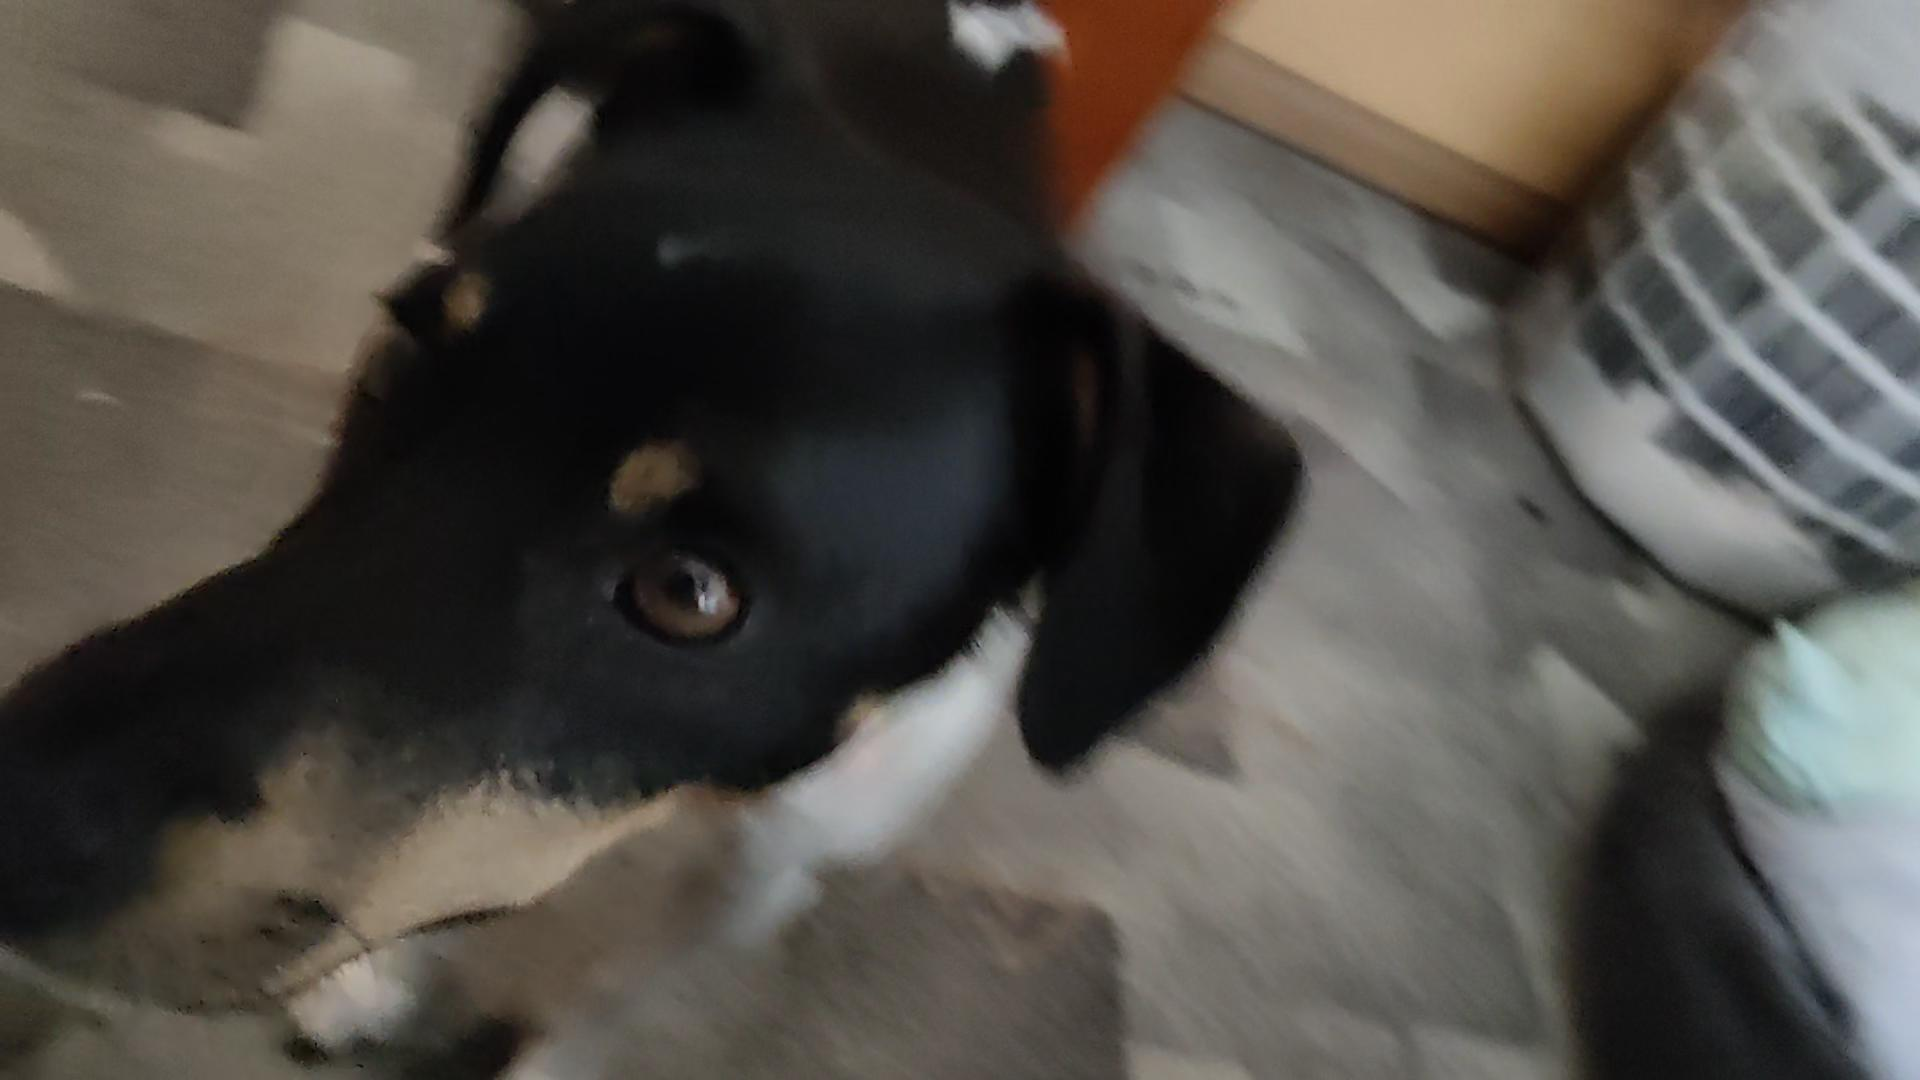Dog: (0, 0, 1324, 1079)
